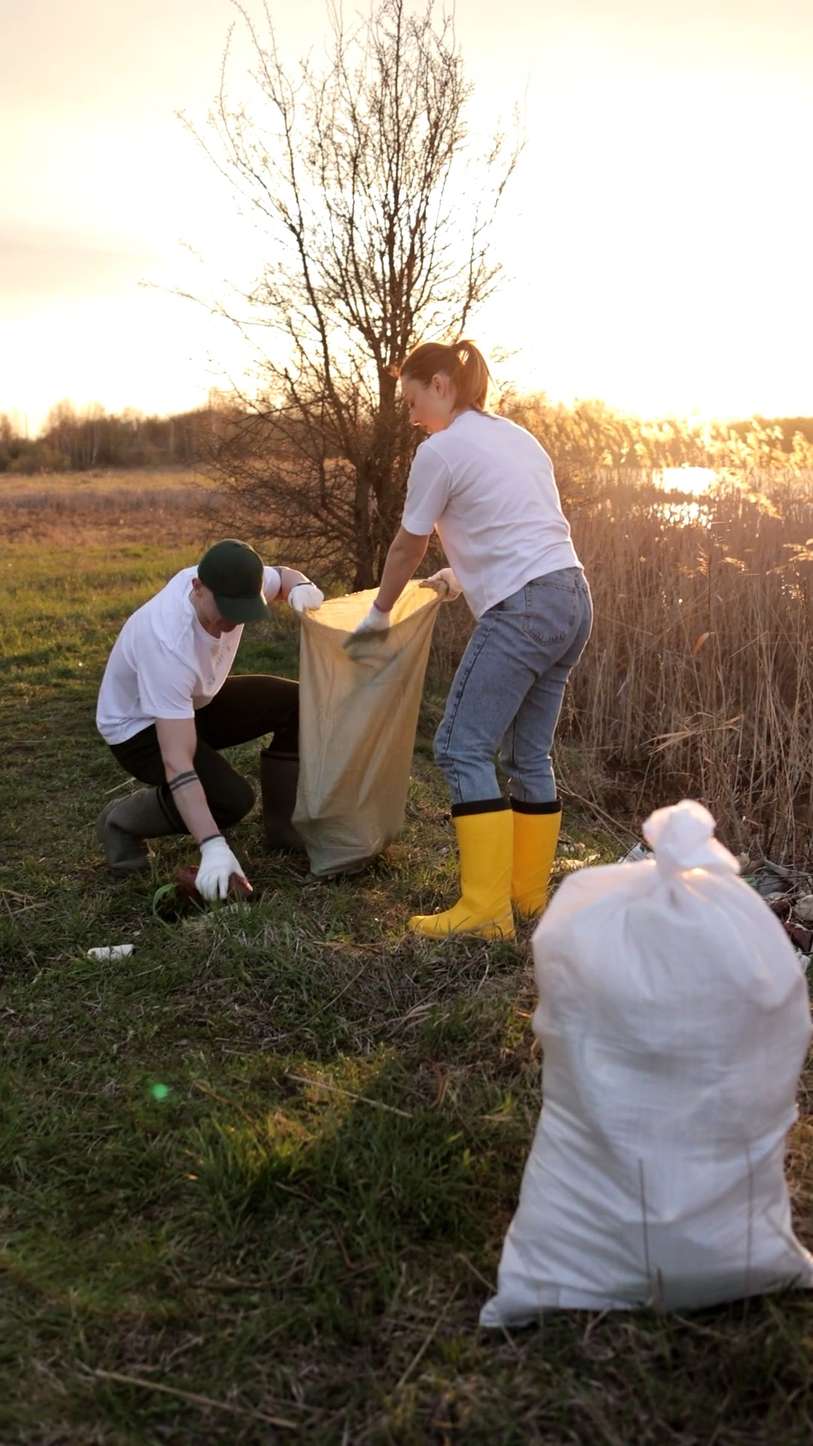gloves: (157, 834, 294, 906), (346, 593, 396, 653), (286, 575, 328, 626)
